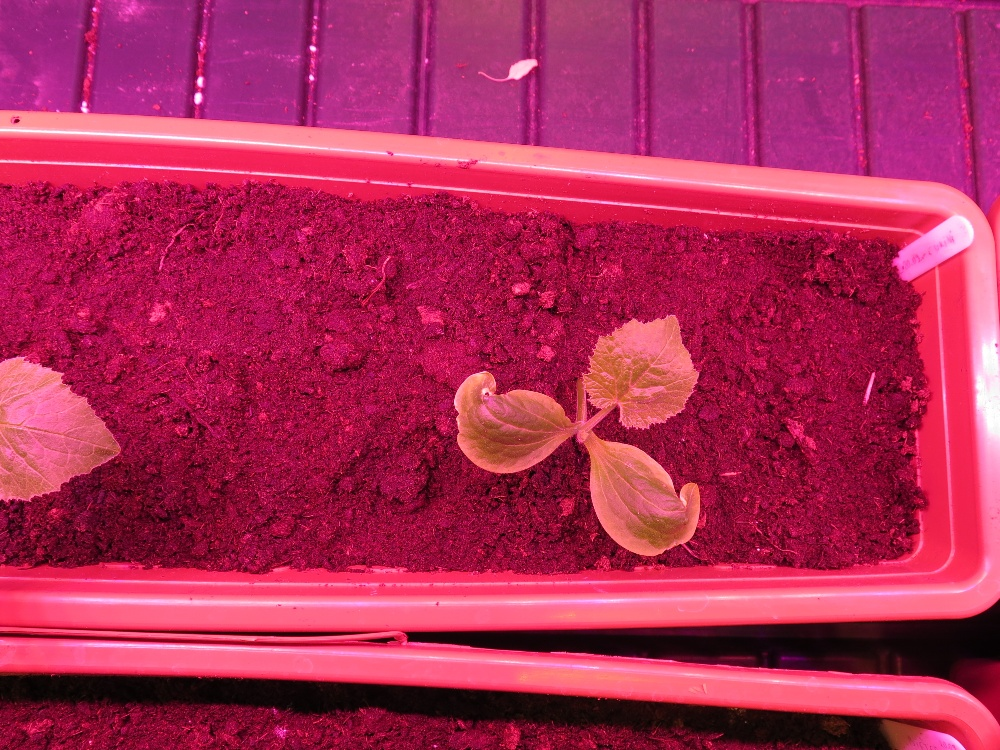crop: (452, 306, 700, 559)
